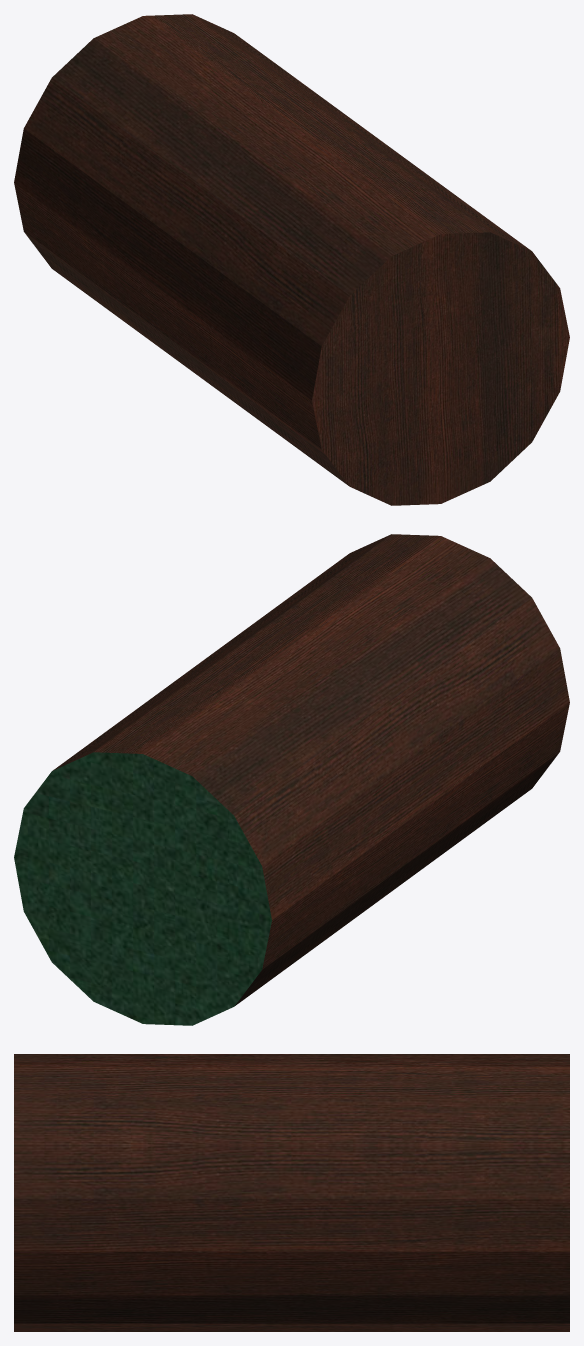
The picture shows the model from 3 angles, top to bottom: view 1: azimuth 30°, elevation 25°; view 2: azimuth 150°, elevation 25°; view 3: azimuth 270°, elevation 25°; orthographic projection. The views are drawn at different scales.
Parts seen in each view (by area): view 1: Cube_Cube_None_QuartoPieces.png; view 2: Cube_Cube_None_QuartoPieces.png; view 3: Cube_Cube_None_QuartoPieces.png.
Part boxes in pixels (<box>): Cube_Cube_None_QuartoPieces.png: <box>14,14,569,505</box>; Cube_Cube_None_QuartoPieces.png: <box>14,534,569,1025</box>; Cube_Cube_None_QuartoPieces.png: <box>14,1054,569,1331</box>.
Size of the model in its own units: 2 by 2 by 4.
